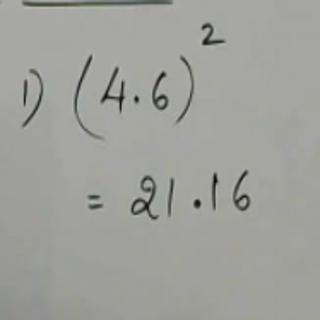.: (186, 193, 207, 213), (130, 88, 145, 107)
1: (166, 175, 178, 217), (208, 171, 219, 212), (21, 76, 31, 106)
2: (130, 175, 160, 221), (199, 22, 226, 49)
4: (101, 62, 127, 116)
6: (232, 169, 255, 207), (152, 72, 171, 110)
